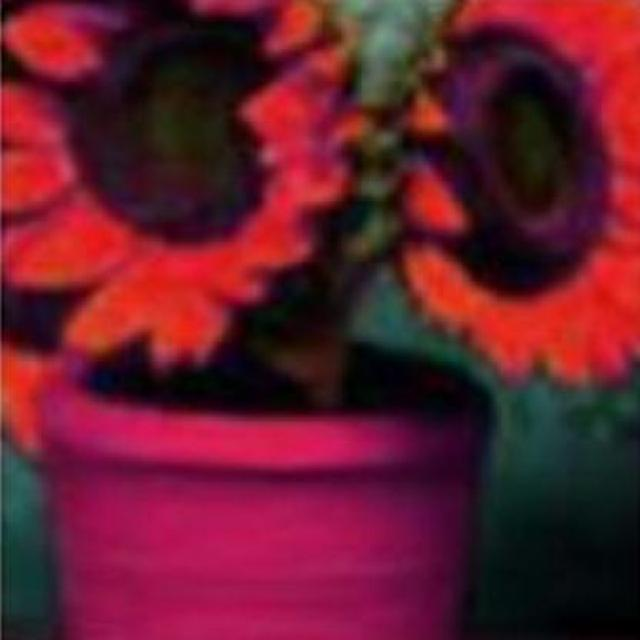sunflower: (4, 0, 358, 373), (360, 0, 638, 389)
